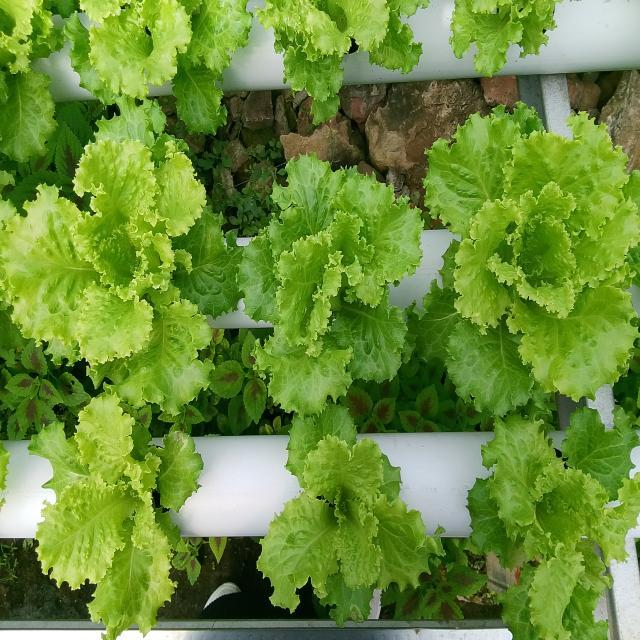Baby: (425, 105, 640, 414), (15, 115, 213, 415), (236, 160, 424, 415), (29, 385, 203, 634), (465, 404, 640, 640)
